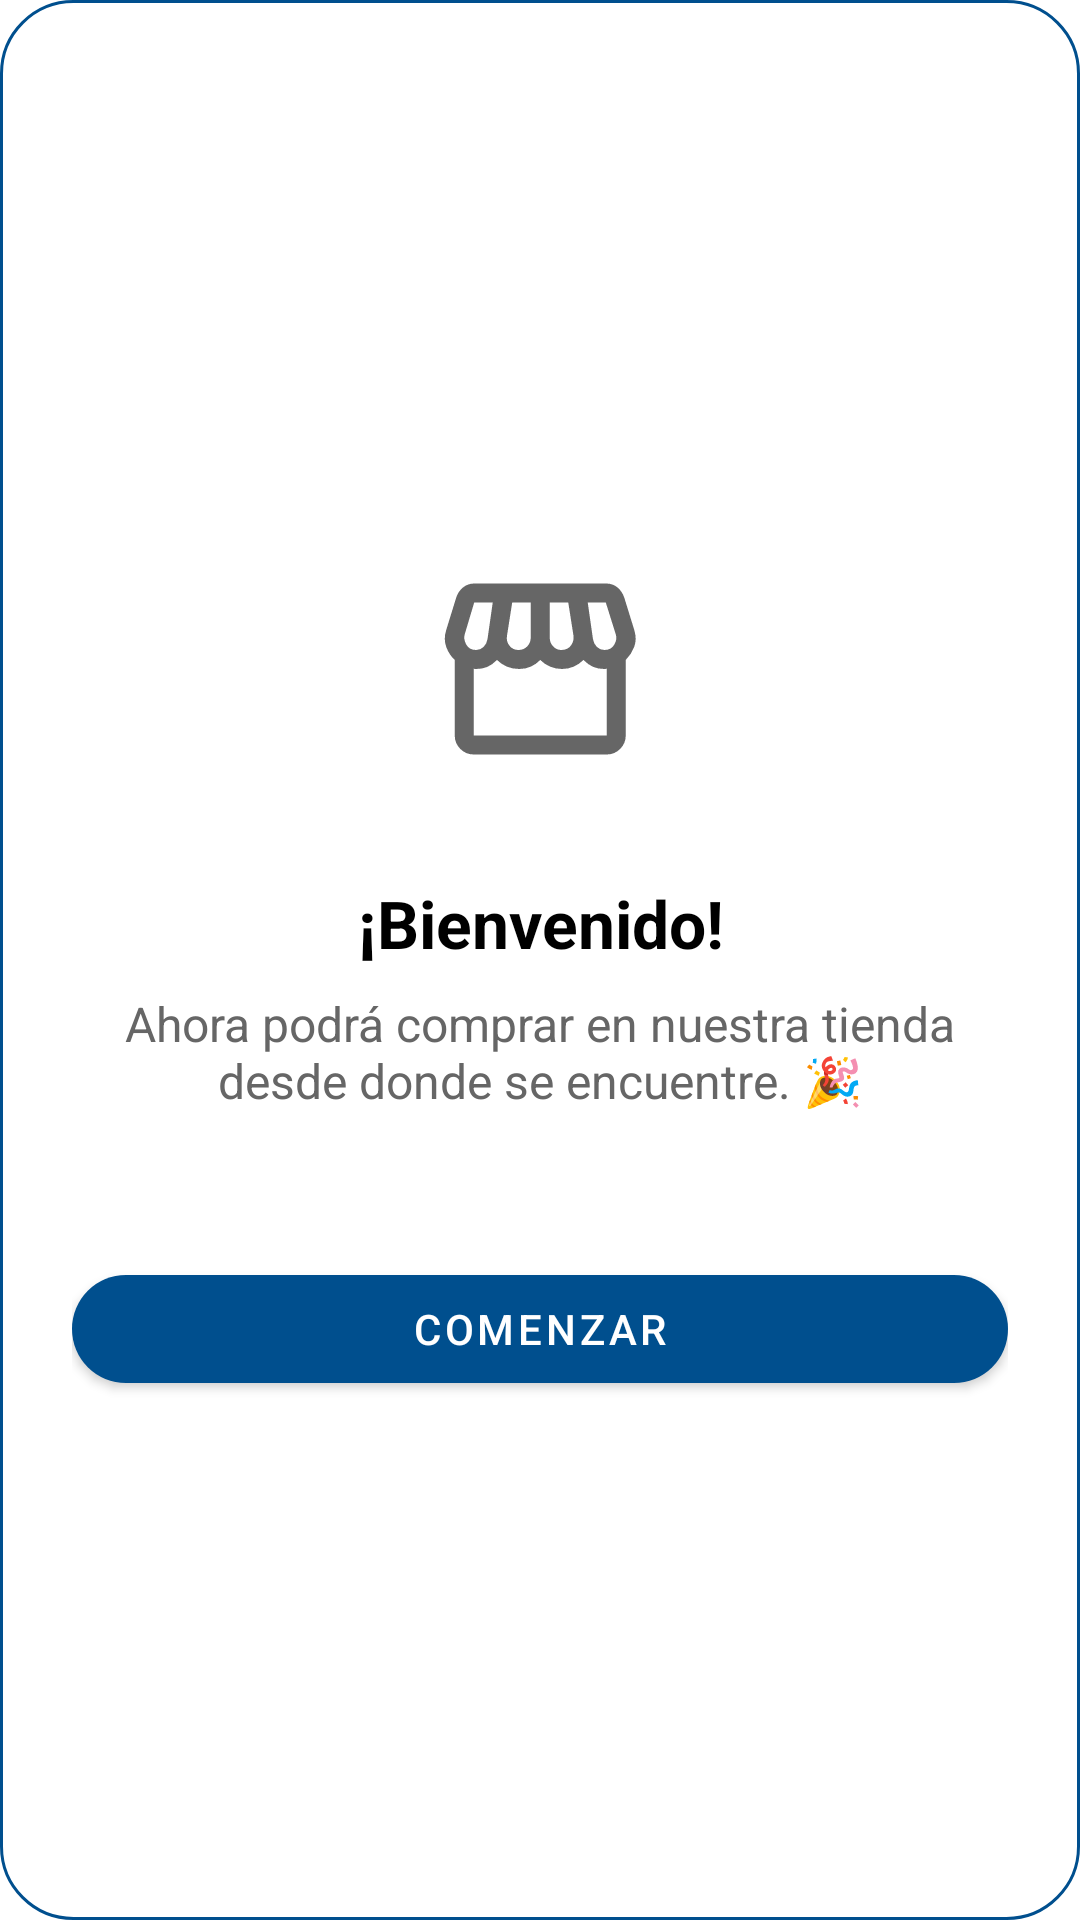

Named icons in this screenshot (1080*1920) and their centers, [x,y]:
store: [540,669]
